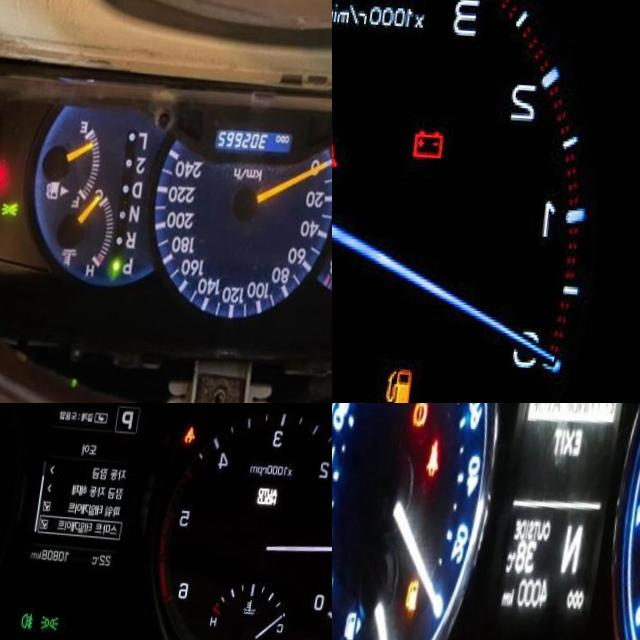FrontFogLight: (31, 607, 47, 626)
Seat Belt: (435, 437, 451, 474)
SideLamp: (52, 610, 71, 626)
